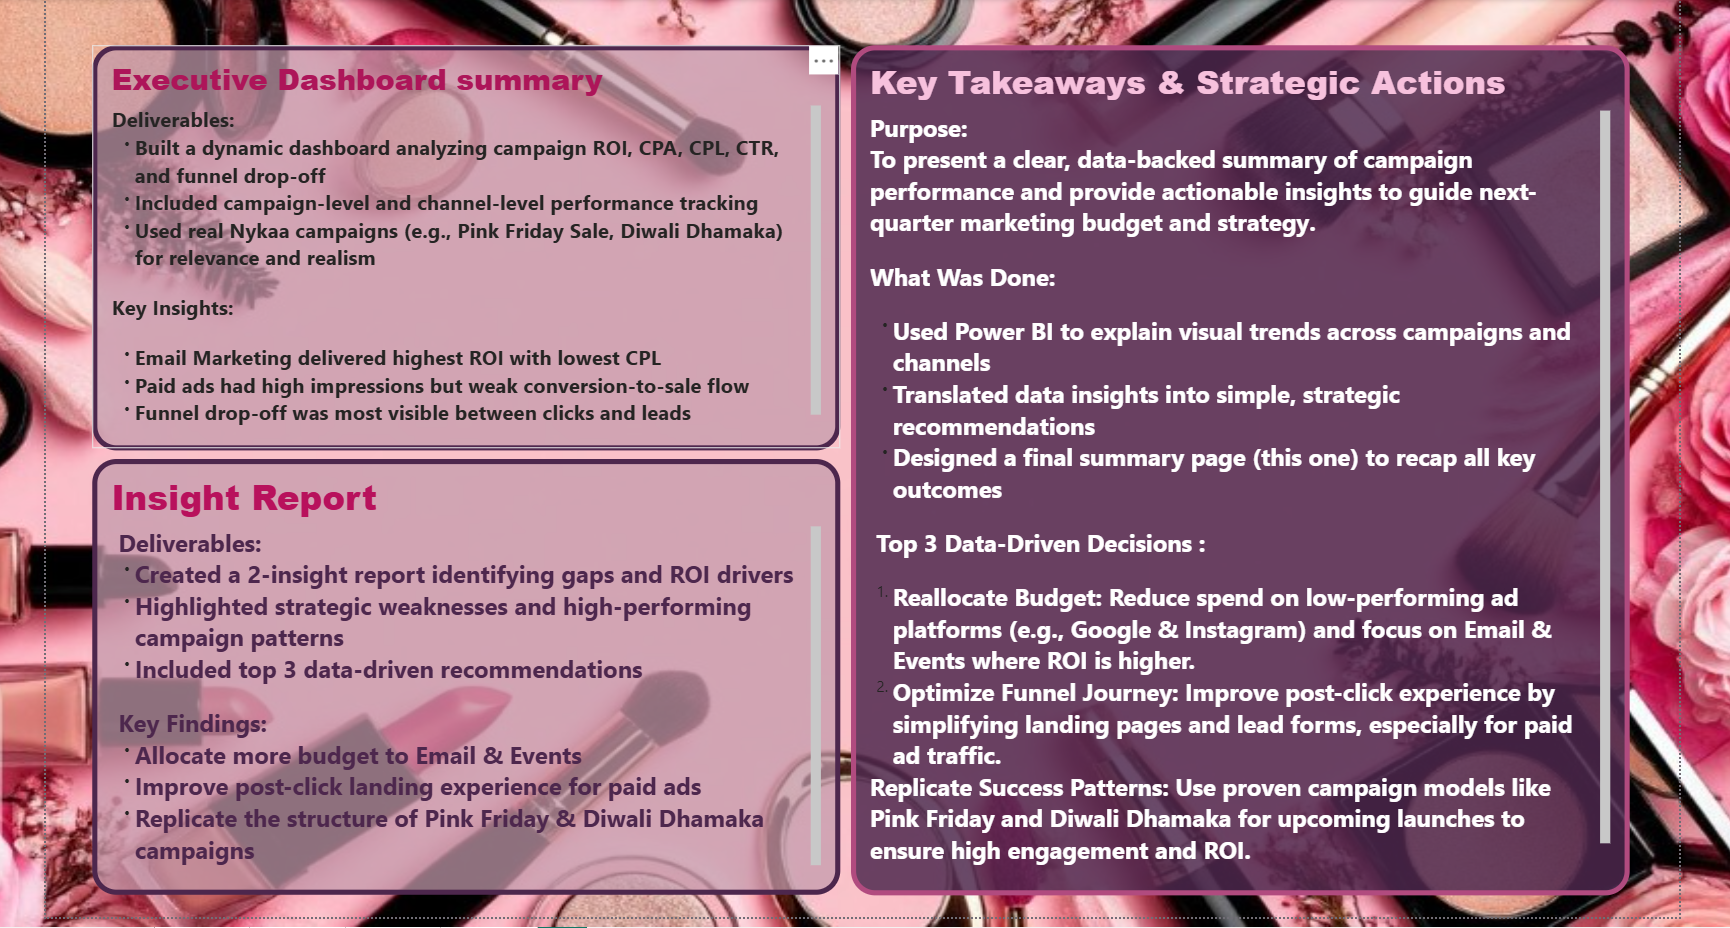

Layout of this report page (visuals, bound fields, positions):
{"tool":"powerbi","page":{"name":"Page 4","canvas":[1280,720],"ordinal":3},"visuals":[{"type":"textbox","title":" Executive Dashboard summary","box":[35.9,35.9,586.2,317.2],"z":0},{"type":"textbox","title":" Insight Report","box":[35.9,360.3,586.2,341.9],"z":1000},{"type":"textbox","title":"Key Takeaways & Strategic Actions","box":[631.4,36,610.5,666.3],"z":2000}]}

Visuals, with their boxes in screenshot pixels (x1, y1, x2, y2):
" Executive Dashboard summary" textbox: (91, 41, 836, 444)
" Insight Report" textbox: (91, 453, 836, 888)
"Key Takeaways & Strategic Actions" textbox: (848, 41, 1624, 888)
